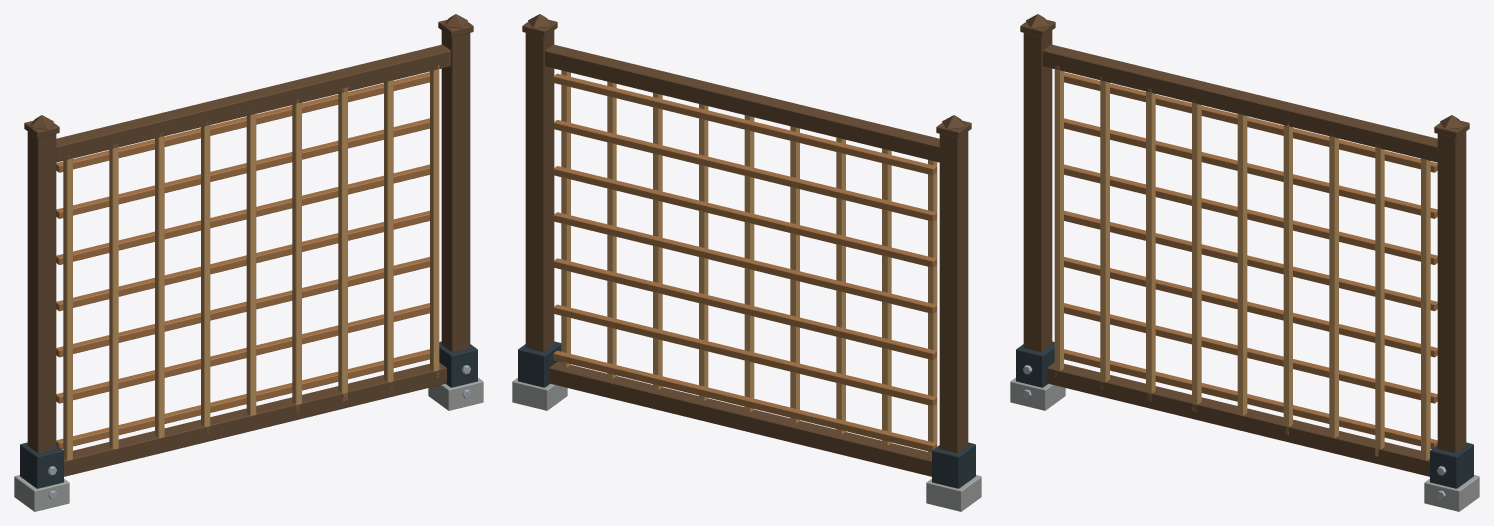
File: b19_garden_boundary_trellis.glb
3 views of the same model, side by side, from view 1: azimuth 30°, elevation 25°; view 2: azimuth 150°, elevation 25°; view 3: azimuth 330°, elevation 25° (orthographic).
Visible parts, largest first — view 1: b19_garden_boundary_trellis; view 2: b19_garden_boundary_trellis; view 3: b19_garden_boundary_trellis.
Boxes of the visible parts, x1,y1,x2,y2 form: b19_garden_boundary_trellis: (14, 14, 483, 511); b19_garden_boundary_trellis: (512, 14, 981, 511); b19_garden_boundary_trellis: (1010, 14, 1479, 511).
Bounding box in the file's own units: 2.65 × 2.17 × 0.222.
